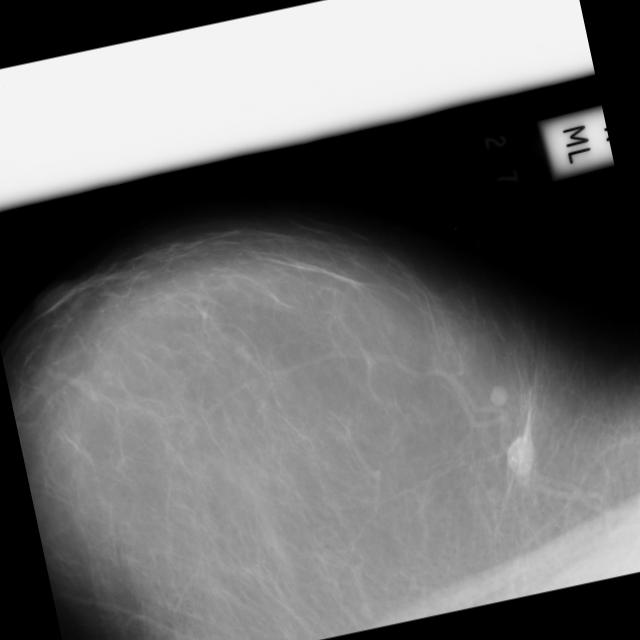CIRC: (497, 451, 640, 540)
